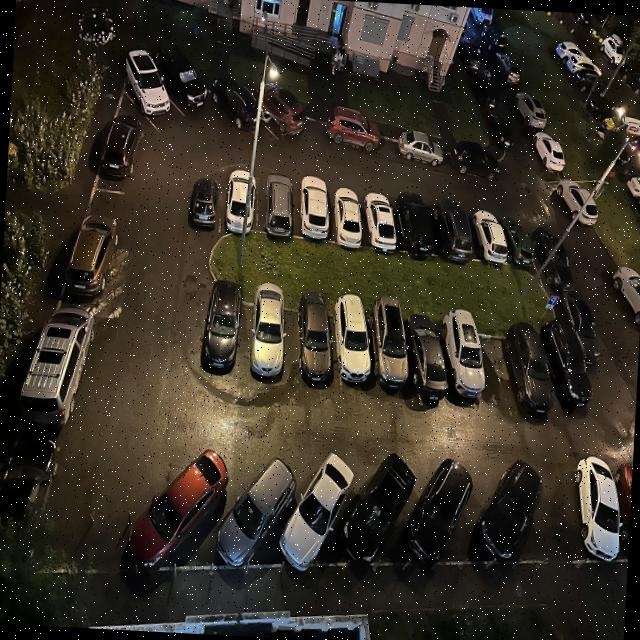car: (129, 450, 229, 573), (216, 455, 296, 569), (279, 453, 355, 571), (21, 307, 96, 426), (340, 454, 416, 562), (0, 435, 61, 569), (405, 458, 475, 566), (476, 459, 544, 562), (540, 315, 593, 407), (504, 321, 555, 413), (577, 457, 620, 560), (66, 213, 119, 295), (442, 310, 485, 398), (405, 314, 448, 402), (201, 281, 242, 371), (370, 295, 407, 390), (154, 44, 208, 108), (553, 291, 600, 364), (333, 295, 370, 383), (298, 290, 332, 383), (125, 49, 171, 116), (251, 284, 283, 375), (531, 227, 575, 291), (99, 115, 142, 180), (210, 77, 261, 131), (397, 192, 436, 259), (433, 199, 473, 263), (256, 84, 304, 136), (326, 106, 381, 150), (363, 192, 397, 254), (225, 170, 257, 234), (500, 215, 535, 272), (472, 209, 508, 264), (556, 179, 598, 226), (265, 174, 294, 237), (451, 140, 499, 178), (300, 176, 328, 240), (333, 188, 362, 247), (612, 267, 640, 328), (190, 178, 220, 228), (603, 135, 640, 175), (399, 132, 443, 164), (534, 132, 565, 171), (516, 90, 547, 129), (472, 68, 498, 108), (493, 50, 521, 84), (489, 113, 513, 149), (626, 178, 640, 199)
